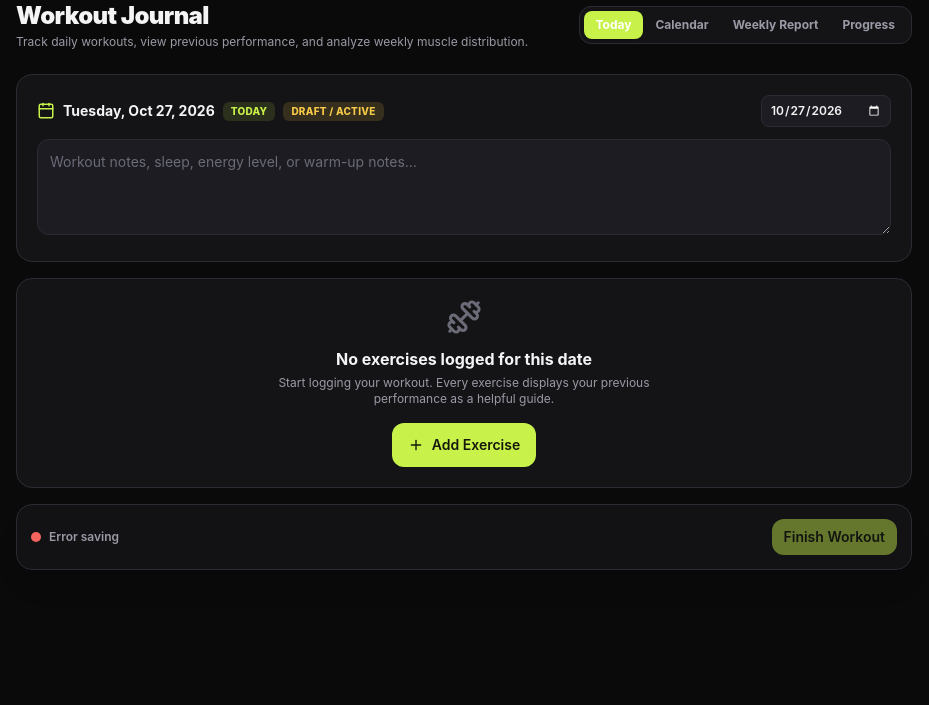
Test: WorkoutJournal feature test › can open Weekly Report and switch tabs smoothly
Click the button "Weekly Report" at point(776, 25), box [721,11,830,39]
(page scrolled)
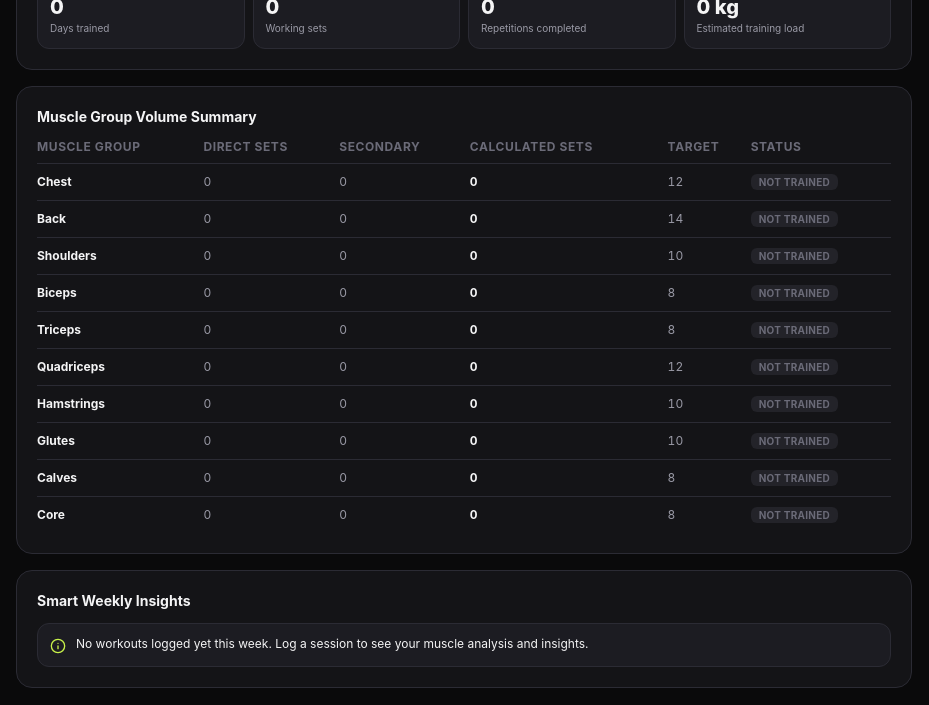
Expected: the heading "Muscle Group Volume Summary" is shown, [37,108,257,124]
Expected: the heading "Smart Weekly Insights" is shown, [37,592,190,608]
